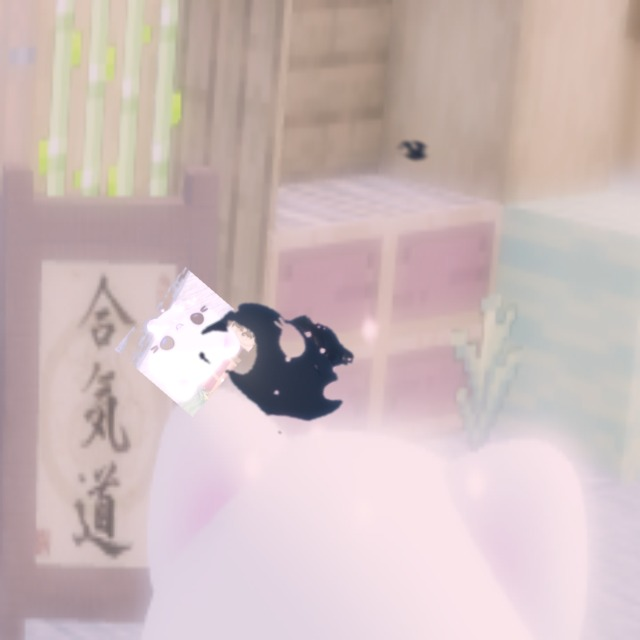urso_branco: (114, 267, 264, 417)
urso_preto: (155, 246, 402, 476), (392, 134, 435, 169)
